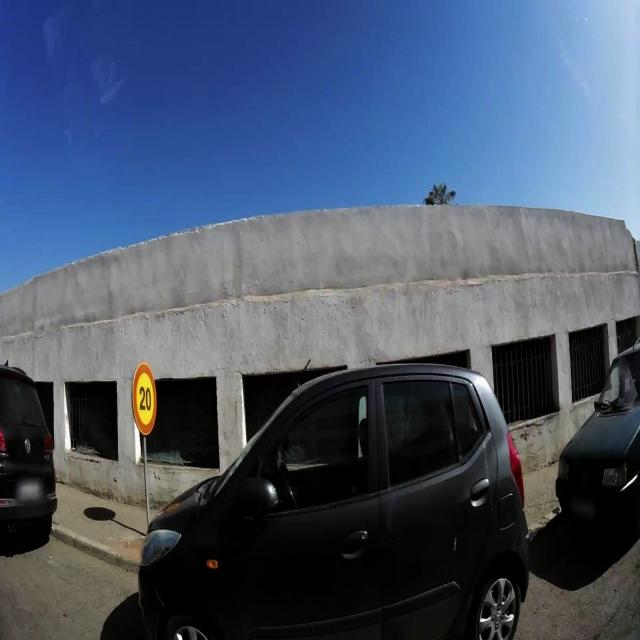car: (137, 356, 532, 638), (555, 329, 640, 544), (0, 359, 58, 552)
